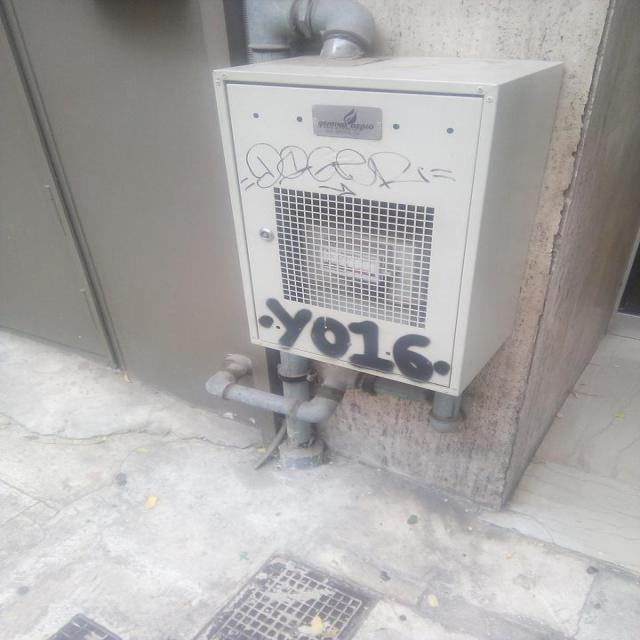nonspitting: (258, 298, 451, 384), (241, 142, 456, 198)
